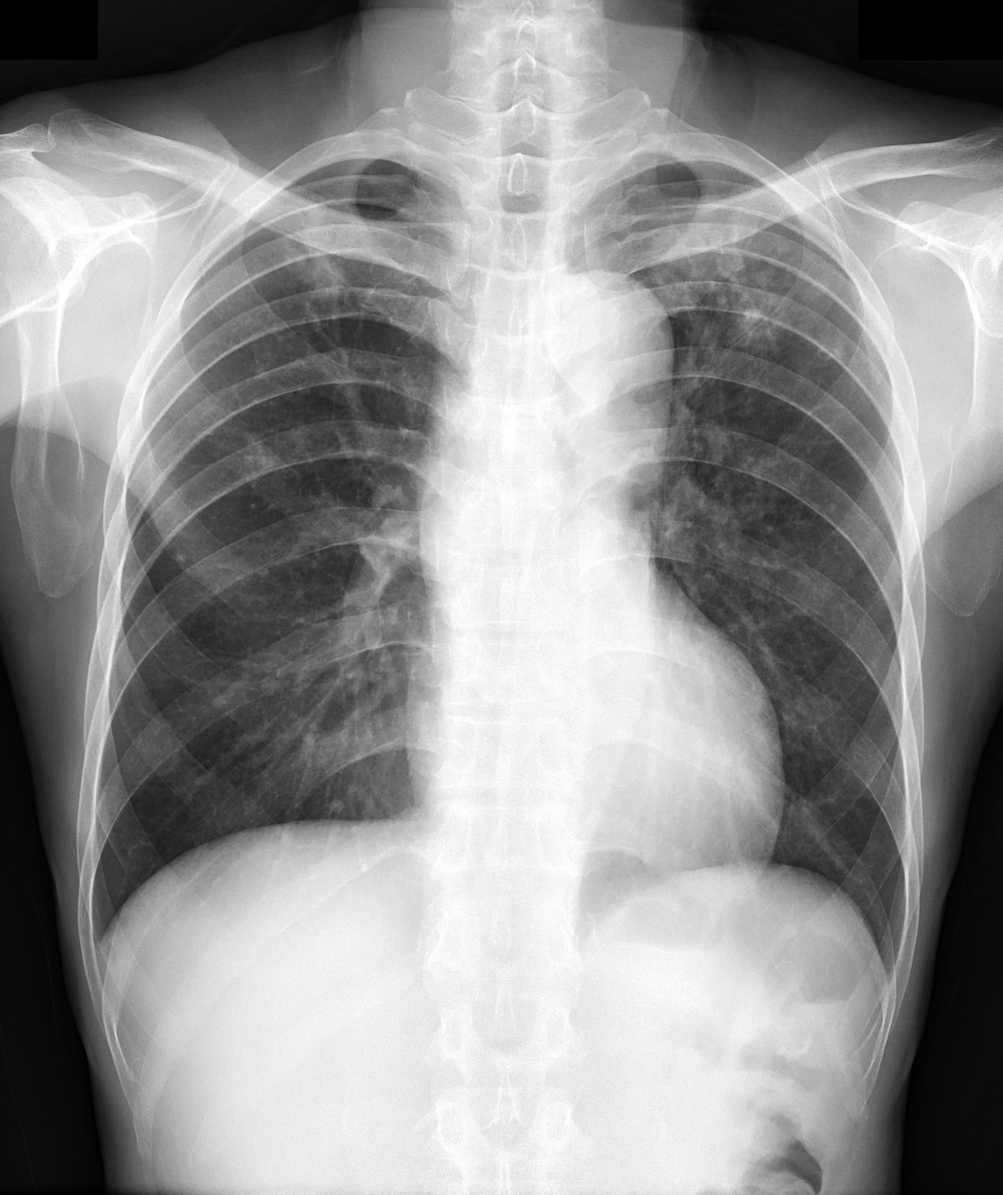Aortic enlargement: (526, 274, 675, 468)
Pulmonary fibrosis: (674, 194, 858, 366), (260, 186, 354, 350)
